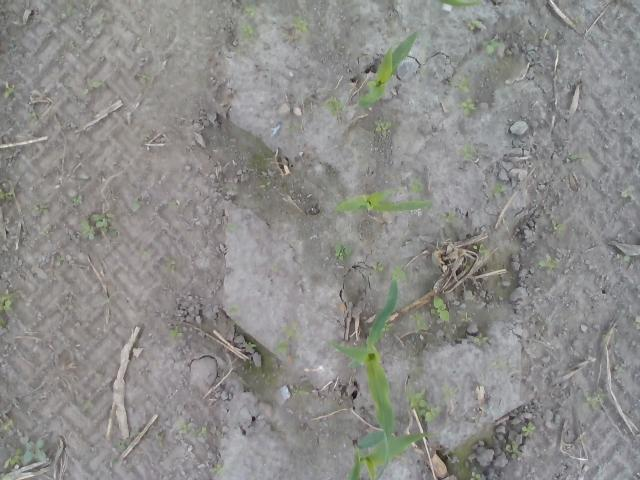Maize: (330, 270, 402, 480), (358, 29, 418, 108), (346, 428, 430, 480), (336, 188, 433, 214), (434, 0, 479, 9)
Weeds: (406, 389, 440, 422), (80, 214, 112, 241), (20, 436, 48, 464), (0, 288, 17, 330), (431, 294, 449, 320), (4, 448, 24, 468), (408, 310, 428, 330), (324, 95, 346, 113), (290, 14, 310, 33), (534, 255, 556, 272), (484, 38, 503, 56), (239, 22, 257, 41), (374, 118, 392, 136), (450, 80, 472, 94), (462, 97, 478, 115), (584, 390, 600, 408), (408, 174, 424, 192), (472, 243, 493, 256), (174, 420, 192, 434), (335, 242, 353, 256), (292, 384, 312, 396), (0, 416, 15, 432), (441, 384, 456, 400), (274, 337, 288, 354), (467, 19, 483, 32), (1, 82, 14, 98), (66, 0, 78, 17), (552, 218, 566, 232), (522, 422, 535, 437), (504, 442, 519, 455), (192, 425, 208, 437), (473, 332, 488, 344), (396, 265, 408, 280), (490, 360, 509, 369), (168, 326, 185, 336), (95, 14, 112, 24), (463, 143, 473, 160), (0, 188, 13, 200), (40, 228, 54, 239), (31, 204, 48, 213), (228, 303, 238, 318), (243, 6, 256, 17), (210, 464, 224, 474), (257, 180, 272, 189), (71, 192, 82, 204), (90, 79, 104, 88), (286, 327, 298, 337), (225, 223, 237, 233), (460, 312, 472, 322), (130, 199, 140, 210), (452, 454, 463, 464), (566, 151, 576, 162), (631, 318, 640, 330), (463, 46, 473, 56), (374, 262, 384, 272), (446, 212, 456, 222), (117, 440, 128, 449), (26, 112, 38, 120), (382, 323, 392, 332), (470, 471, 480, 480), (622, 255, 632, 264), (496, 183, 504, 193), (245, 342, 256, 348), (424, 40, 432, 48), (0, 472, 7, 480), (16, 121, 22, 129), (264, 157, 272, 161)
